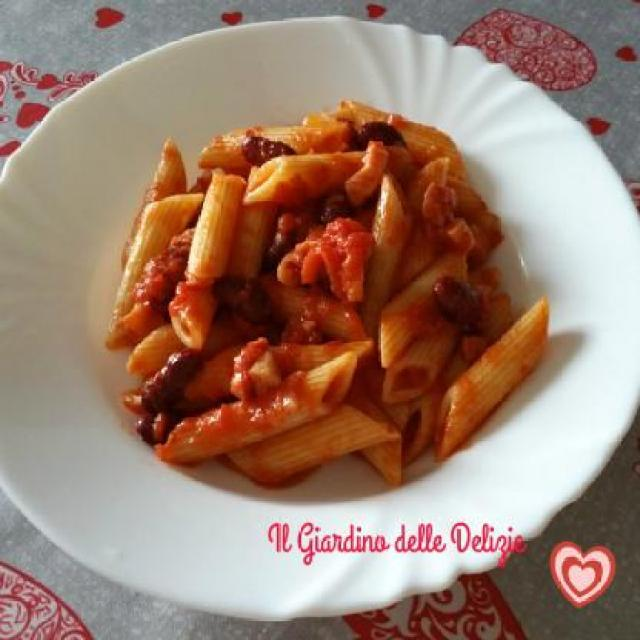Pasta al ragu: (23, 87, 551, 476)
